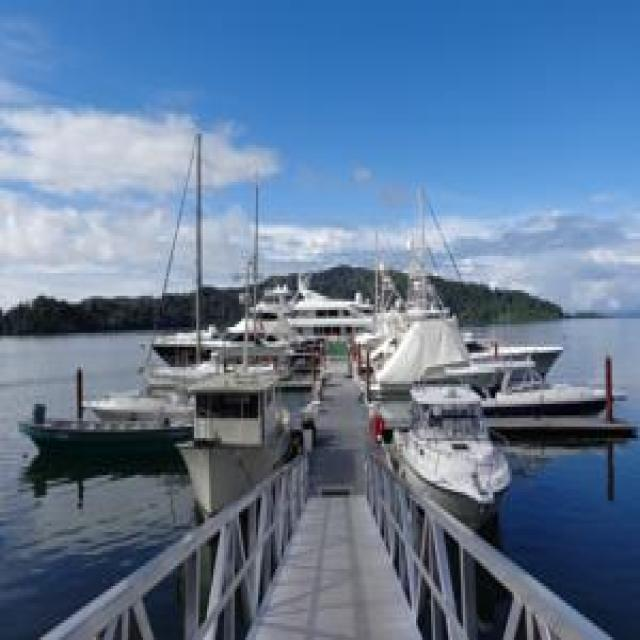houseboat: (376, 328, 502, 530)
